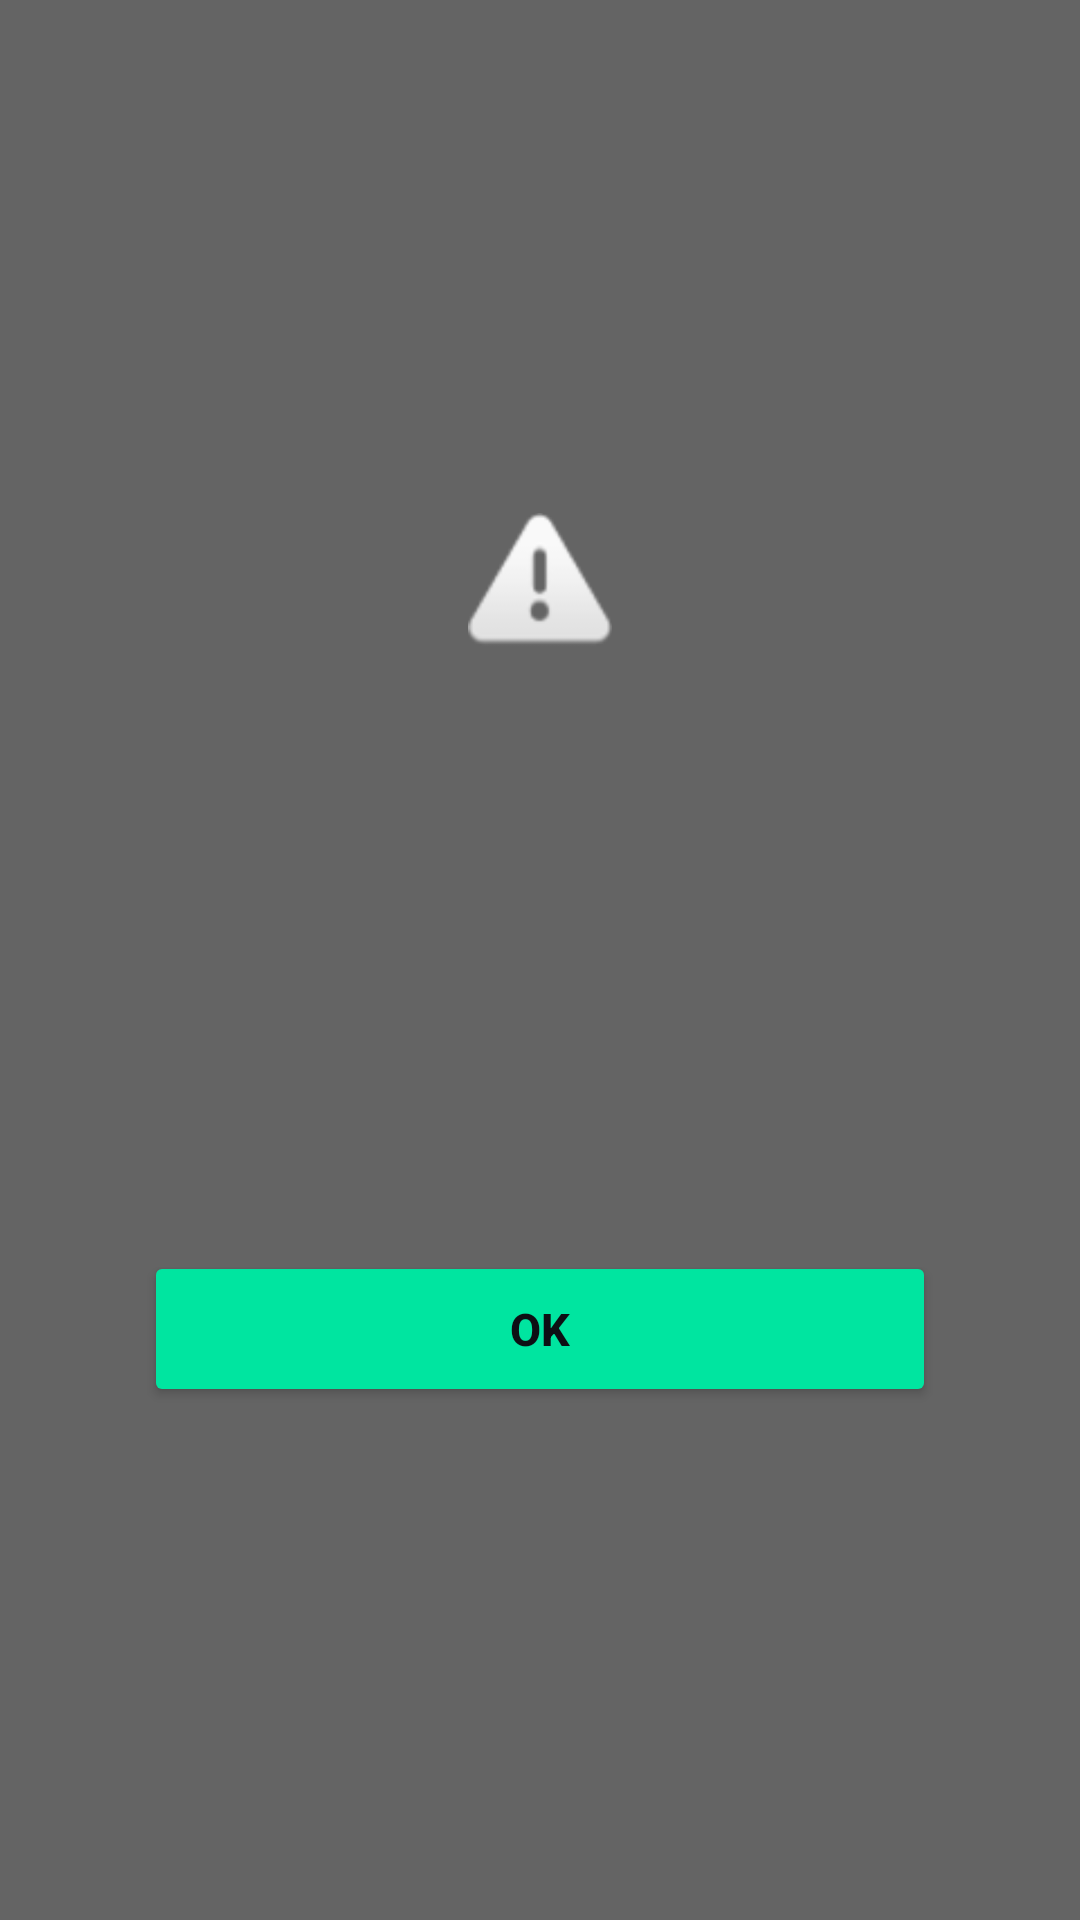

Screen size 1080px×1920px. Icon name, then its box in pixels as Rect(x1, y1, x2, y2):
alert: Rect(468, 514, 611, 643)
